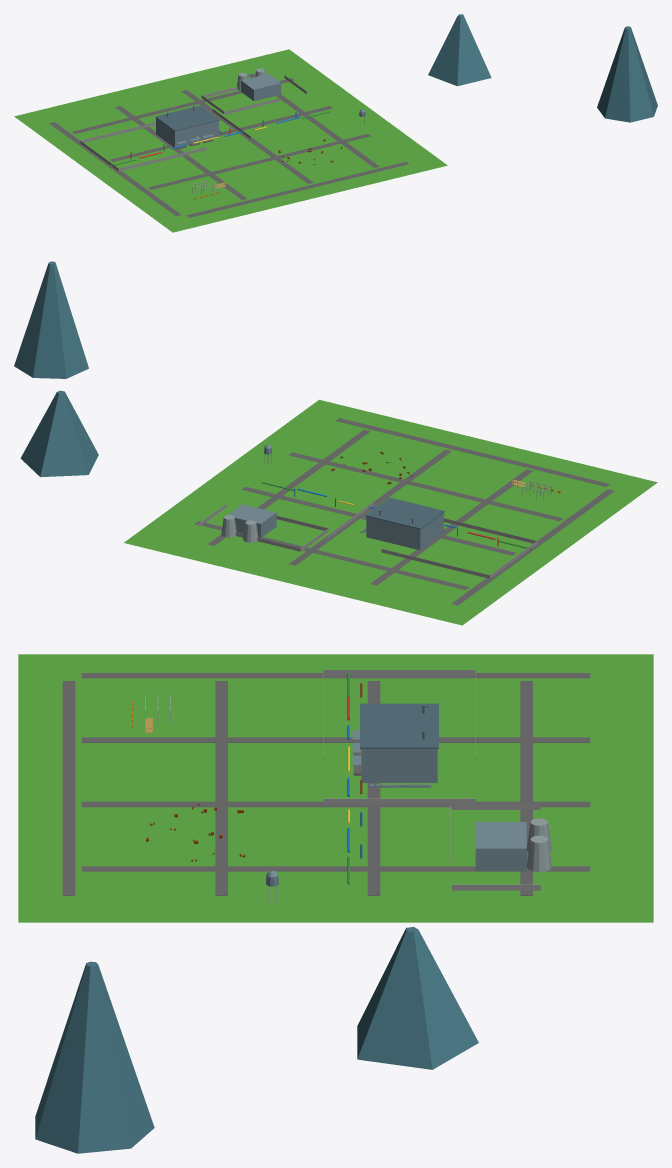
The model's file is sector_r2_c3.glb.
3 renders of one model, top to bottom at view 1: azimuth 30°, elevation 25°; view 2: azimuth 150°, elevation 25°; view 3: azimuth 270°, elevation 25°, orthographic. The views are drawn at different scales.
Parts seen in each view (by area): view 1: GROUND_r2_c3, MOUNTAIN_38, MOUNTAIN_39, BUILDING_Factory_Main, BUILDING_Factory_Roof, ROAD_Side_18, BUILDING_PowerPlant_Main, ROAD_Side_19, ROAD_Side_21, ROAD_Side_22, ROAD_Side_23, ROAD_Side_24 (+2 smaller); view 2: GROUND_r2_c3, MOUNTAIN_38, MOUNTAIN_39, BUILDING_Factory_Main, BUILDING_Factory_Roof, ROAD_Side_18, ROAD_Side_19, ROAD_Side_23, ROAD_Side_24, ROAD_Side_22, ROAD_Side_21, BUILDING_PowerPlant_Main (+2 smaller); view 3: GROUND_r2_c3, MOUNTAIN_38, MOUNTAIN_39, BUILDING_Factory_Roof, ROAD_Side_18, ROAD_Side_22, ROAD_Side_24, ROAD_Side_19, ROAD_Side_25, BUILDING_Factory_Main, BUILDING_PowerPlant_Main, ROAD_Side_23 (+5 smaller).
Boxes of the visible parts, <box> form: GROUND_r2_c3: <box>14,49,447,232</box>; MOUNTAIN_38: <box>597,26,657,122</box>; MOUNTAIN_39: <box>428,14,491,86</box>; BUILDING_Factory_Main: <box>156,118,218,147</box>; BUILDING_Factory_Roof: <box>155,105,219,131</box>; ROAD_Side_18: <box>186,162,408,217</box>; BUILDING_PowerPlant_Main: <box>241,74,281,101</box>; ROAD_Side_19: <box>148,134,370,189</box>; ROAD_Side_21: <box>72,78,294,133</box>; ROAD_Side_22: <box>49,122,181,216</box>; ROAD_Side_23: <box>115,106,247,200</box>; ROAD_Side_24: <box>181,89,313,183</box>; GROUND_r2_c3: <box>124,399,657,625</box>; MOUNTAIN_38: <box>14,261,88,378</box>; MOUNTAIN_39: <box>20,390,98,477</box>; BUILDING_Factory_Main: <box>366,513,443,550</box>; BUILDING_Factory_Roof: <box>365,497,444,529</box>; ROAD_Side_18: <box>335,418,609,486</box>; ROAD_Side_19: <box>289,452,562,521</box>; ROAD_Side_23: <box>370,469,532,585</box>; ROAD_Side_24: <box>289,449,451,565</box>; ROAD_Side_22: <box>451,489,614,605</box>; ROAD_Side_21: <box>195,521,469,589</box>; BUILDING_PowerPlant_Main: <box>228,504,276,537</box>; GROUND_r2_c3: <box>18,654,653,922</box>; MOUNTAIN_38: <box>35,961,154,1153</box>; MOUNTAIN_39: <box>357,927,478,1069</box>; BUILDING_Factory_Roof: <box>360,703,438,748</box>; ROAD_Side_18: <box>62,681,75,895</box>; ROAD_Side_22: <box>81,673,590,678</box>; ROAD_Side_24: <box>81,801,590,807</box>; ROAD_Side_19: <box>215,681,227,895</box>; ROAD_Side_25: <box>81,866,590,871</box>; BUILDING_Factory_Main: <box>361,749,437,782</box>; BUILDING_PowerPlant_Main: <box>475,822,526,871</box>; ROAD_Side_23: <box>81,737,590,742</box>.
Size of the model in its own units: 454 by 71.05 by 250.
